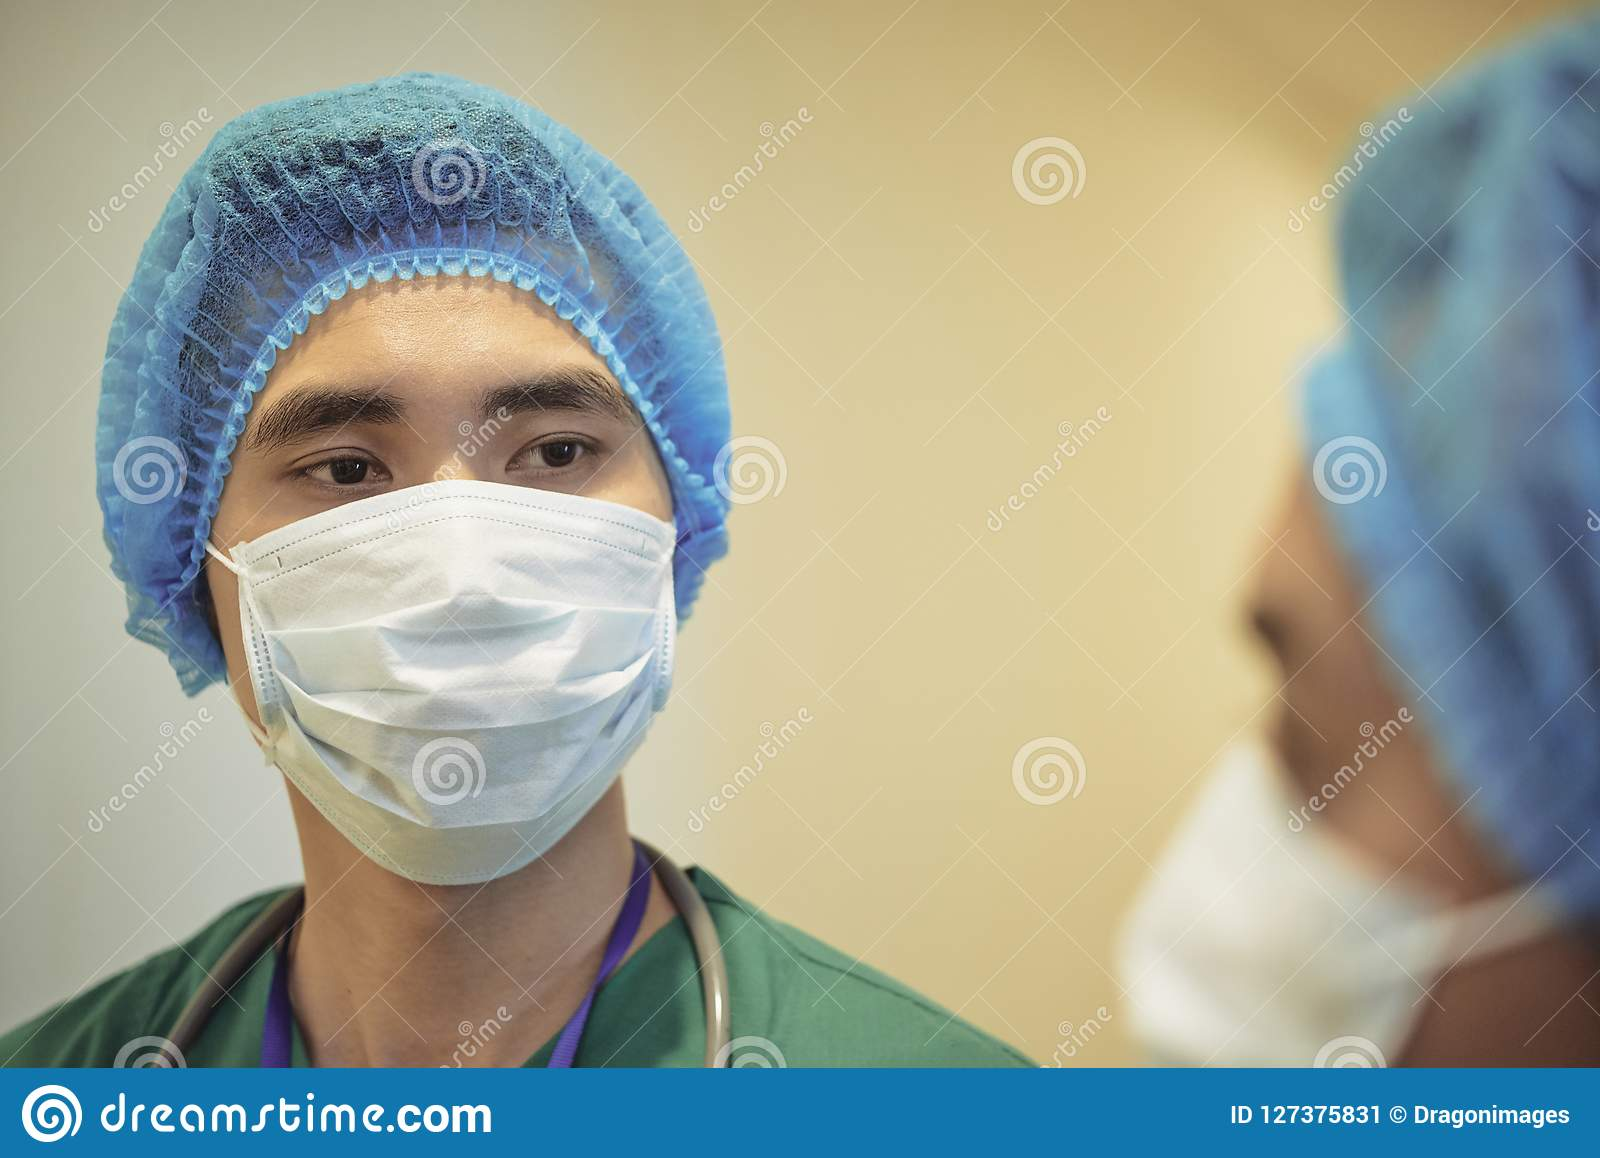mask: (216, 503, 694, 864)
